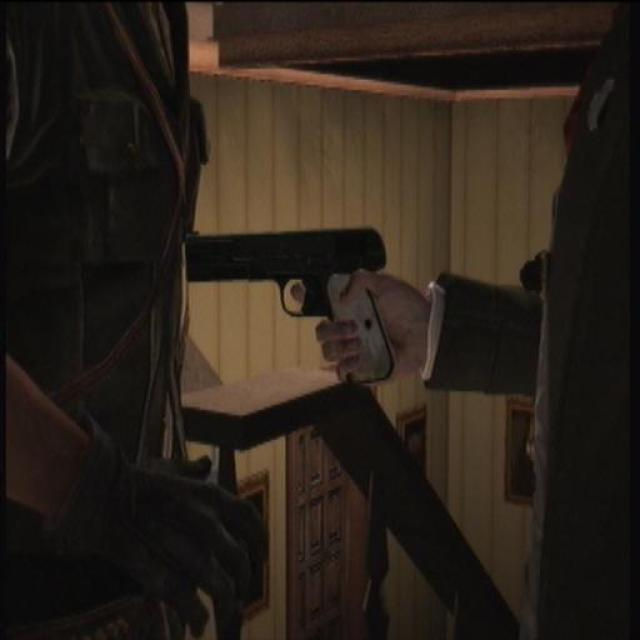pistol: (185, 223, 402, 384)
